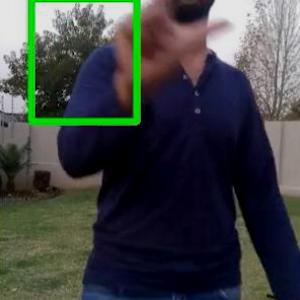land_hand: (106, 0, 242, 121)
